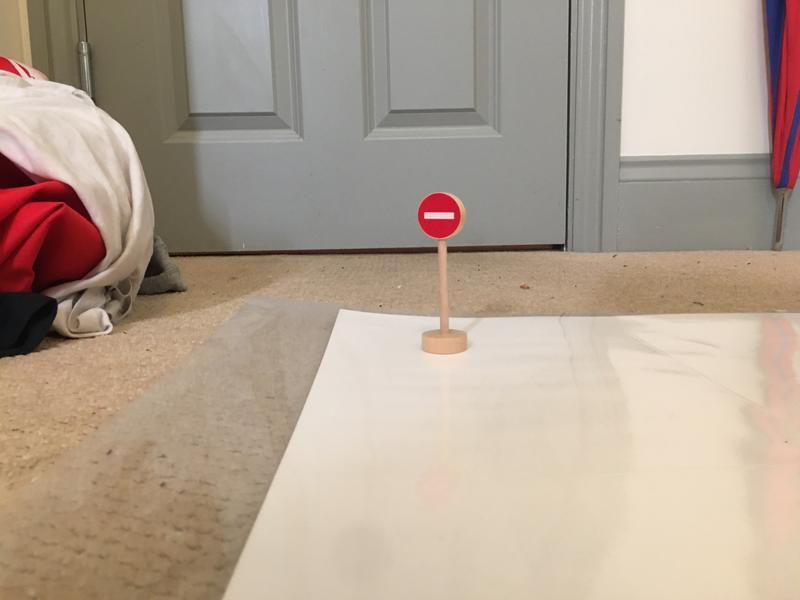Traffic_Sign_No_Entry: (418, 190, 460, 237)
